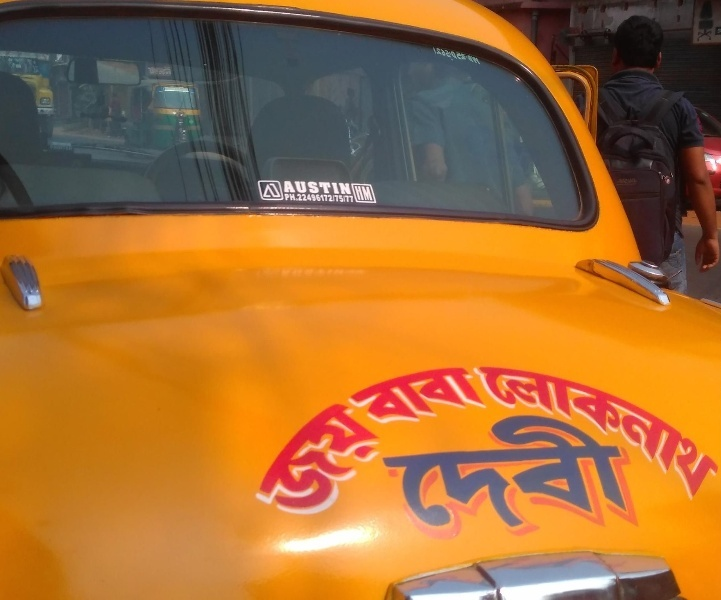text: (705, 356, 721, 516), (481, 356, 496, 516), (497, 356, 512, 516), (513, 356, 528, 516), (529, 356, 544, 516), (545, 356, 560, 516), (561, 356, 576, 516), (577, 356, 592, 516), (593, 356, 608, 516), (609, 356, 624, 516), (625, 356, 640, 516), (641, 356, 656, 516), (657, 356, 672, 516), (673, 356, 688, 516), (689, 356, 704, 516), (369, 389, 384, 537), (385, 389, 400, 537), (401, 389, 416, 537), (417, 389, 432, 537), (433, 389, 448, 537), (449, 389, 464, 537), (465, 389, 480, 537), (481, 389, 496, 537), (497, 389, 512, 537), (513, 389, 528, 537), (529, 389, 544, 537), (545, 389, 560, 537), (561, 389, 576, 537), (577, 389, 592, 537), (593, 389, 608, 537), (609, 389, 624, 537), (625, 389, 640, 537), (641, 389, 656, 537), (657, 389, 672, 537), (241, 391, 256, 538), (257, 391, 272, 538), (273, 391, 288, 538), (289, 391, 304, 538), (305, 391, 320, 538), (321, 391, 336, 538), (337, 391, 352, 538), (353, 391, 368, 538), (369, 391, 384, 538), (469, 356, 480, 516), (385, 391, 395, 538), (337, 351, 352, 432), (353, 351, 368, 432), (369, 351, 384, 432), (385, 351, 400, 432), (401, 351, 416, 432), (417, 351, 432, 432), (433, 351, 448, 432), (449, 351, 464, 432), (465, 351, 480, 432), (481, 351, 493, 432), (673, 389, 679, 537), (433, 43, 448, 69), (449, 43, 464, 69), (465, 43, 480, 69), (366, 389, 368, 537), (238, 391, 240, 538), (333, 351, 336, 432), (289, 180, 304, 196), (305, 180, 320, 196), (321, 180, 336, 196), (337, 180, 352, 196), (354, 185, 368, 202), (481, 43, 489, 69), (289, 192, 304, 204), (305, 192, 320, 204), (321, 192, 336, 204), (337, 192, 352, 204), (262, 183, 272, 198), (625, 178, 639, 187), (273, 183, 281, 198), (149, 66, 160, 76), (161, 66, 172, 76), (282, 180, 288, 196), (369, 185, 374, 202), (615, 178, 624, 187), (429, 43, 432, 69), (50, 146, 64, 151), (65, 146, 73, 151), (285, 192, 288, 204), (353, 180, 354, 196), (353, 192, 354, 204)
